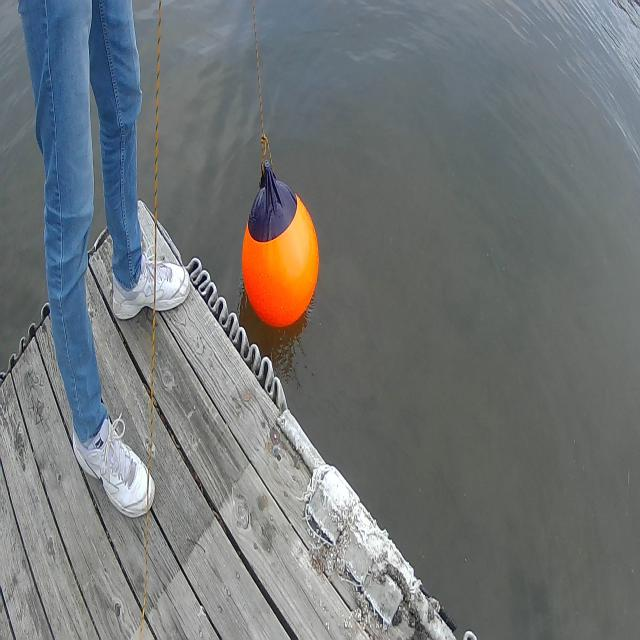Buoy: (241, 167, 326, 342)
